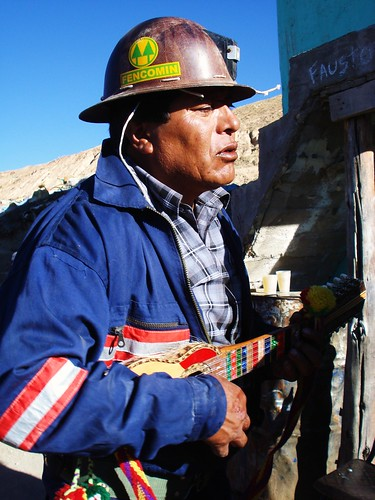person hardhat: (1, 17, 287, 500)
